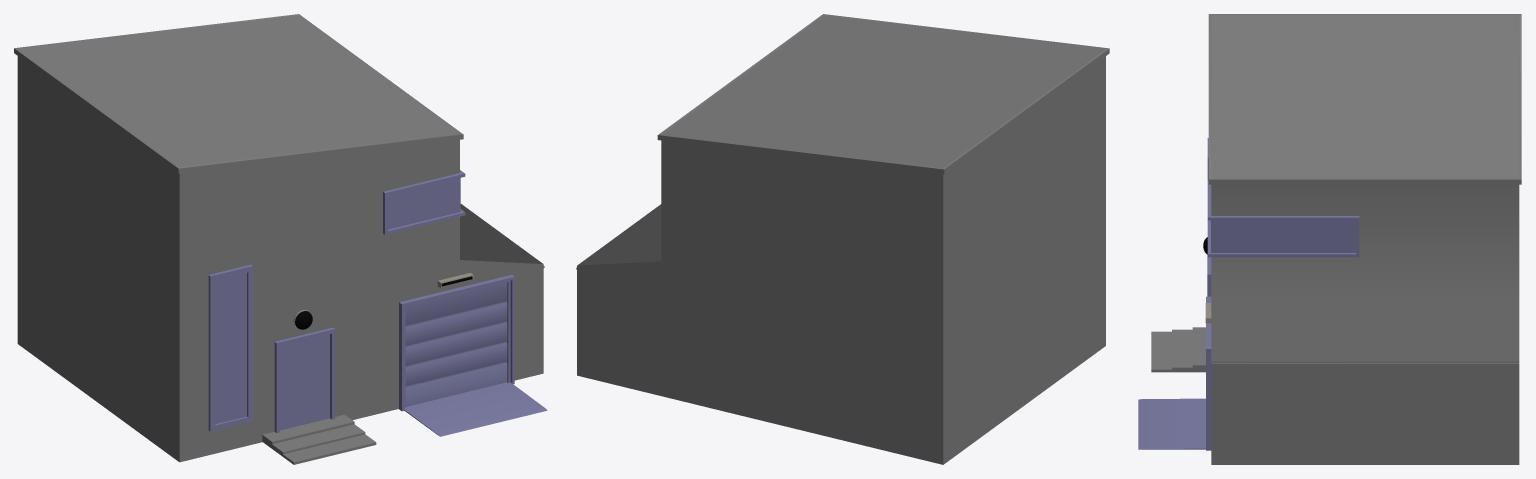
The model's file is fond_du_decor_maison_3.fbx.
The picture shows the model from 3 angles, left to right: view 1: azimuth 30°, elevation 25°; view 2: azimuth 150°, elevation 25°; view 3: azimuth 270°, elevation 25°; orthographic projection. The views are drawn at different scales.
Parts seen in each view (by area): view 1: Box001, Box006, Box004, Box003, Box005, Box002; view 2: Box001; view 3: Box001, Box005, Box006, Box002.
Part boxes in pixels (x1,y1,x2,y2): Box001: (14,14,544,462); Box006: (399,275,547,436); Box004: (208,264,253,431); Box003: (274,327,335,432); Box005: (383,170,465,234); Box002: (262,414,376,464); Box001: (576,14,1109,464); Box001: (1208,14,1521,464); Box005: (1207,180,1359,257); Box006: (1138,296,1211,450); Box002: (1151,327,1205,372).
Size of the model in its own units: 155 by 119 by 147.
